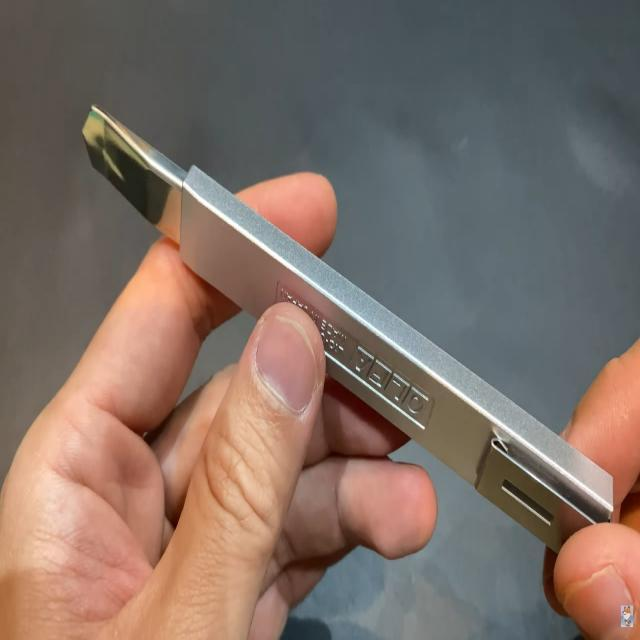cutter: (62, 86, 632, 600)
